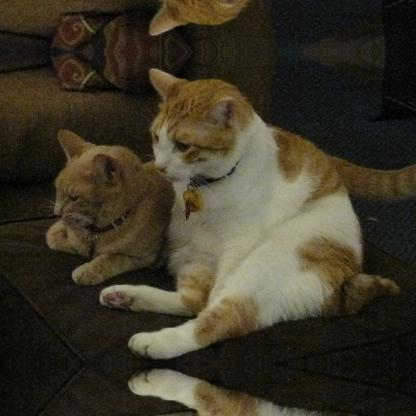Cat: (96, 67, 400, 363), (31, 128, 415, 286)
